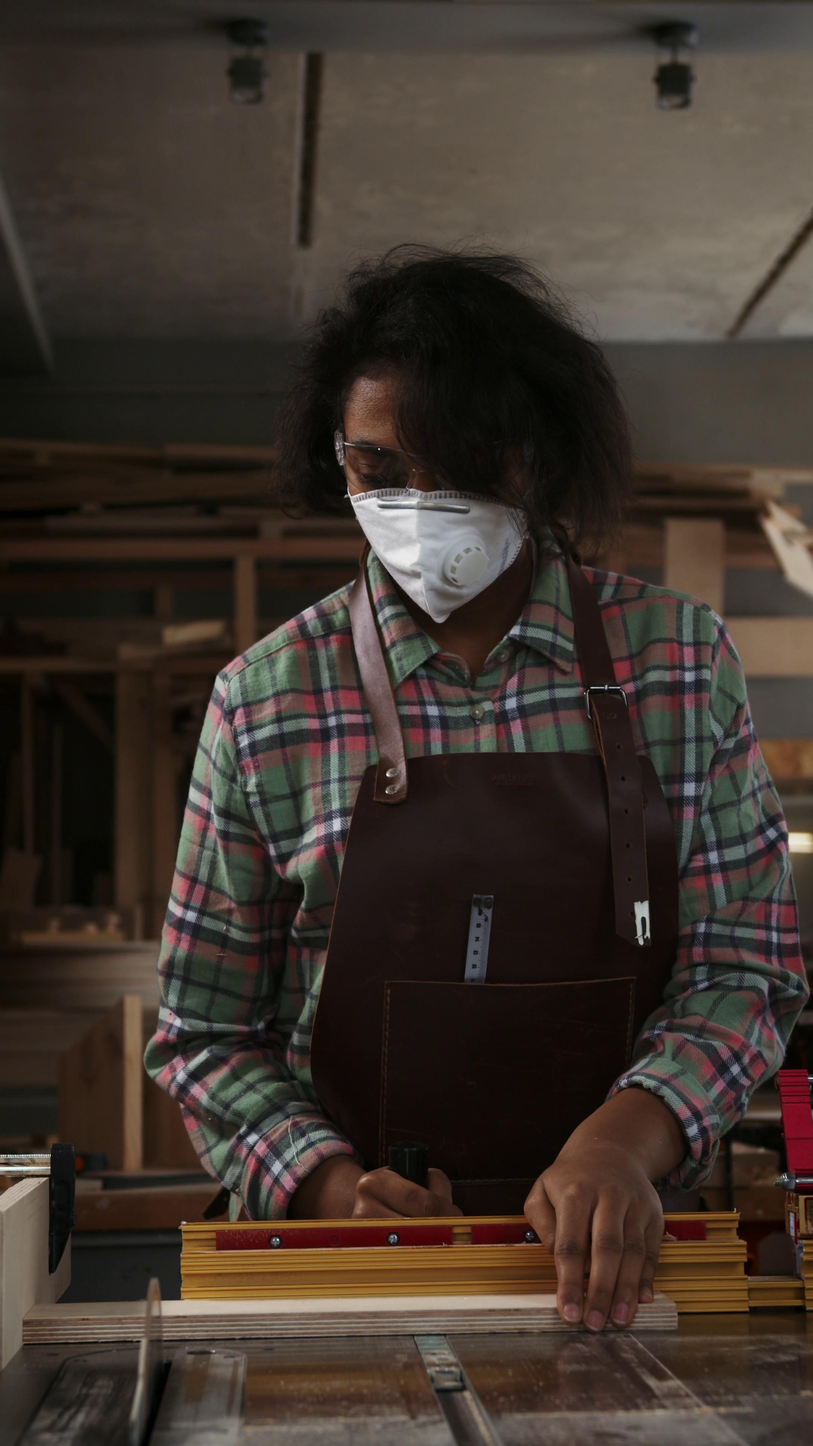mask: (348, 487, 525, 624)
person: (143, 240, 807, 1327)
